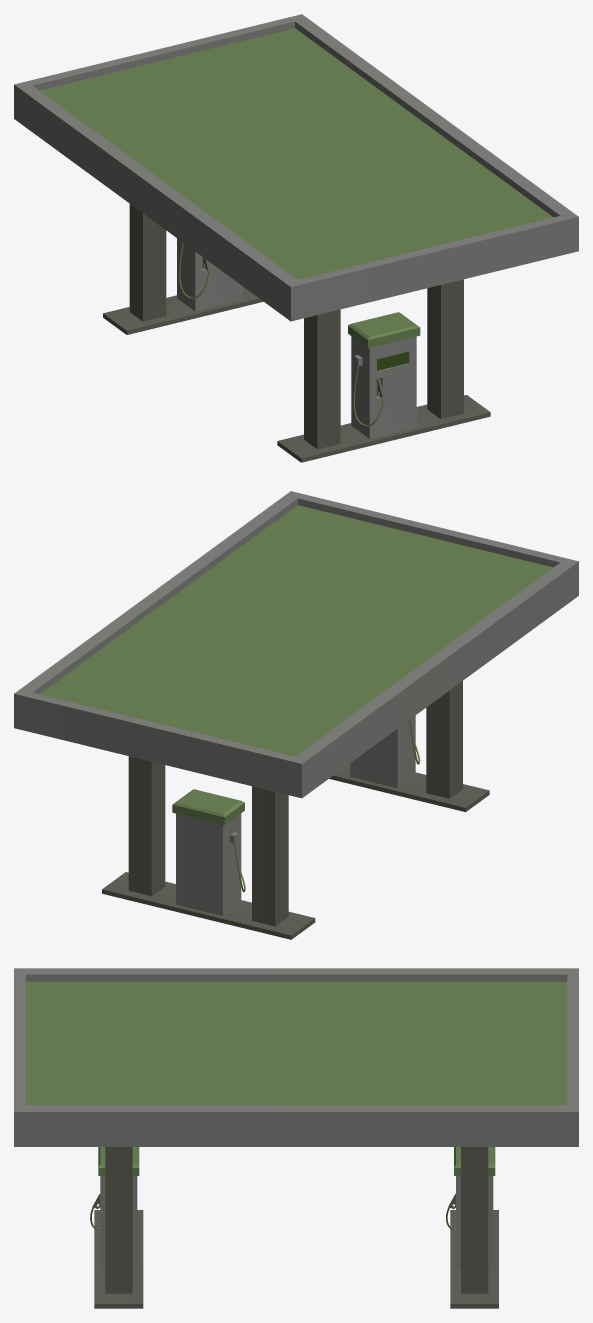
The model's file is Gas_Station_03.fbx.
3 views of the same model, one above another, from view 1: azimuth 30°, elevation 25°; view 2: azimuth 150°, elevation 25°; view 3: azimuth 270°, elevation 25° (orthographic). The views are drawn at different scales.
Visible parts, largest first — view 1: Gas_Station_03; view 2: Gas_Station_03; view 3: Gas_Station_03.
Boxes of the visible parts, left/top/right/bottom form: Gas_Station_03: left=14, top=14, right=578, bottom=462; Gas_Station_03: left=14, top=491, right=578, bottom=939; Gas_Station_03: left=14, top=968, right=578, bottom=1308.
Size of the model in its own units: 5.3 by 3.81 by 8.82.
